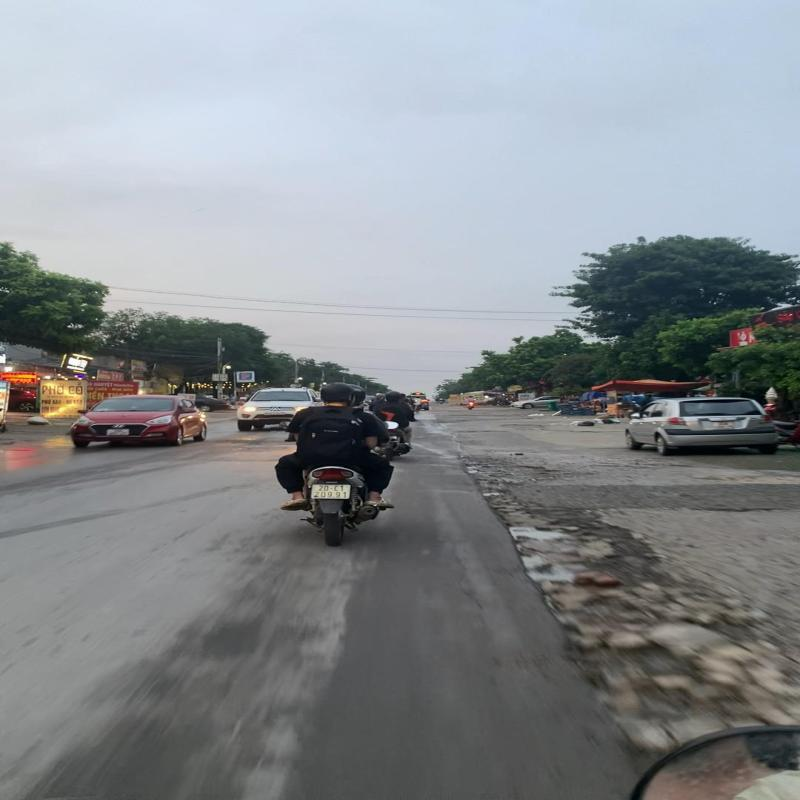helmet: (318, 381, 361, 404)
licenseplate: (309, 482, 353, 501)
motorcyclist: (270, 380, 403, 548)
